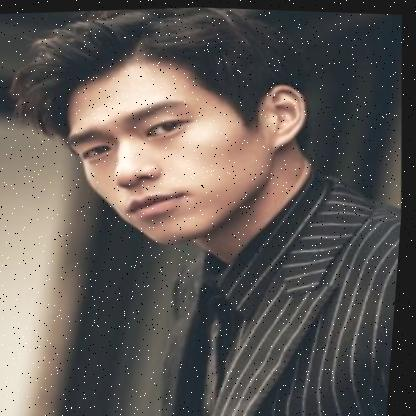person: (24, 2, 337, 266)
